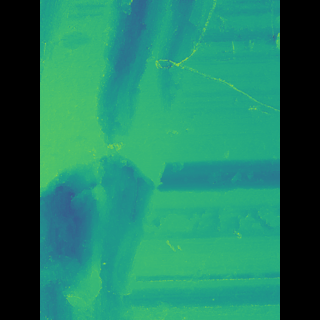Loch: (70, 0, 203, 320)
